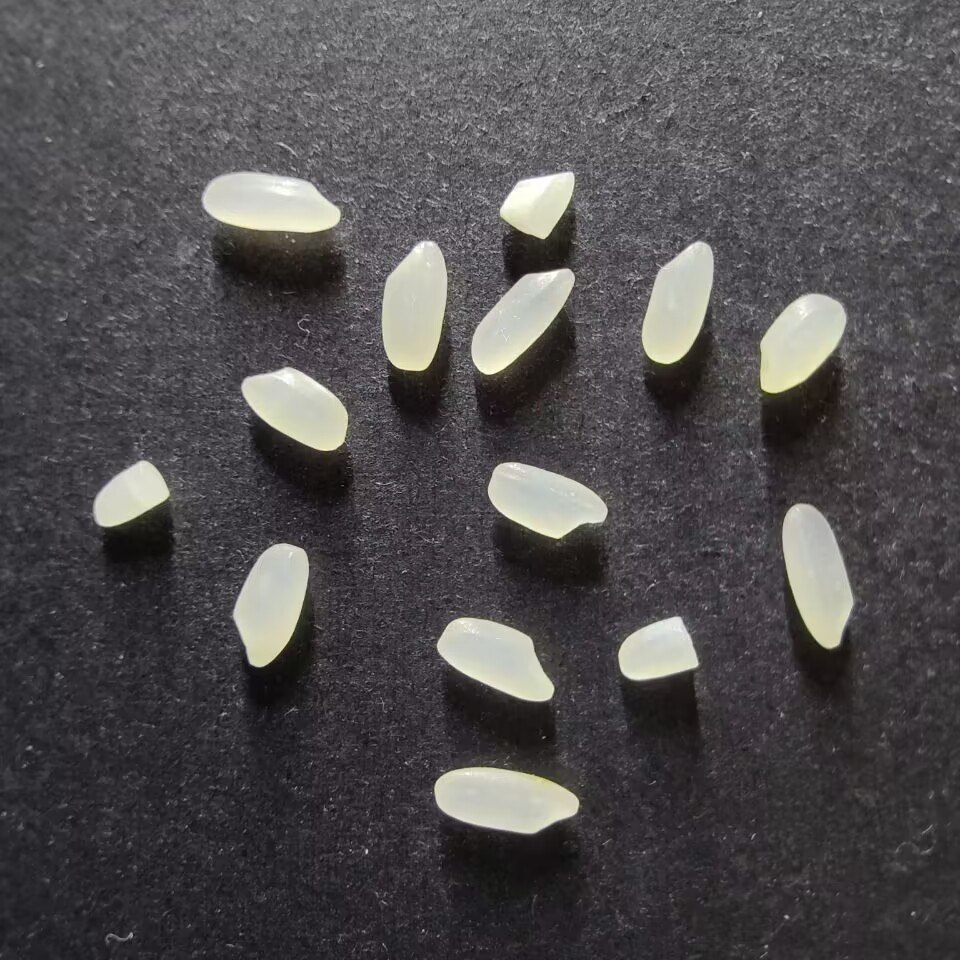broken: (617, 615, 701, 681), (498, 171, 575, 239), (93, 459, 169, 527)
rice: (470, 266, 576, 375), (781, 503, 853, 650), (435, 616, 555, 702), (433, 766, 579, 835), (231, 542, 309, 668), (486, 462, 607, 541), (240, 366, 348, 452), (640, 239, 714, 364), (379, 239, 447, 372), (757, 293, 846, 394), (201, 171, 340, 233)
